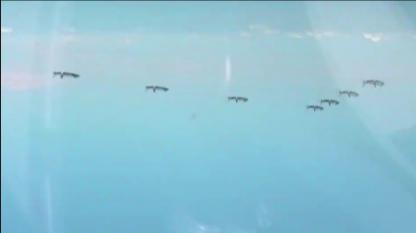F4: (51, 71, 79, 79), (314, 98, 338, 106), (359, 79, 383, 87), (336, 90, 358, 98), (226, 96, 246, 104), (143, 86, 167, 92), (304, 104, 322, 112)
